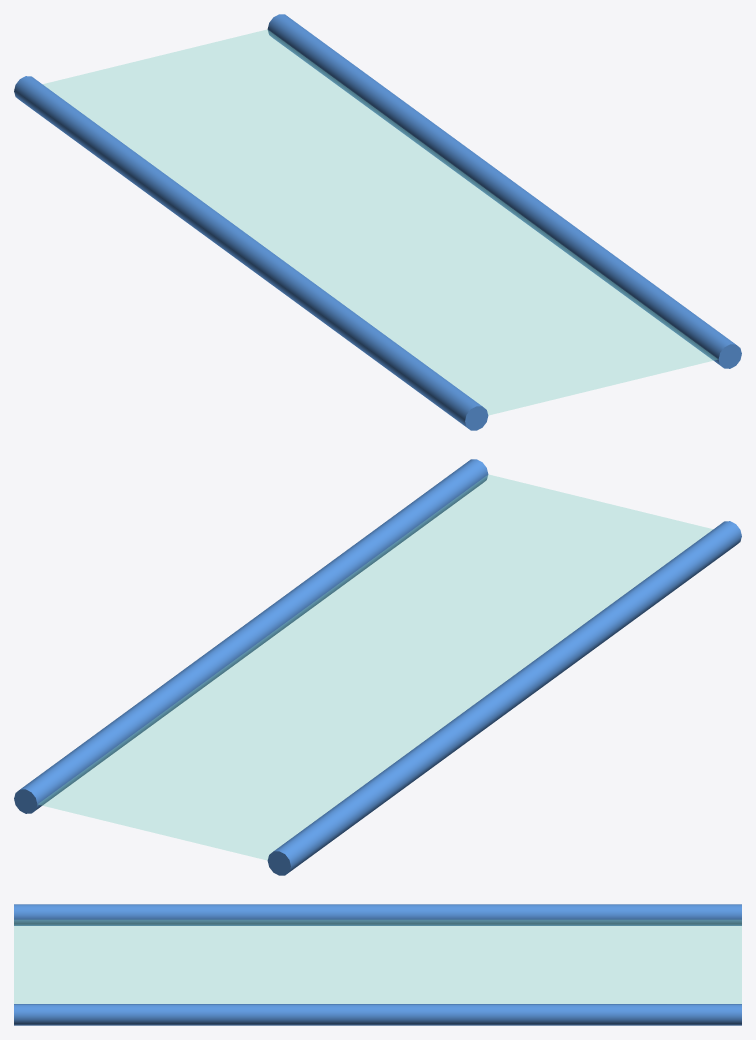
The model's file is arrow_shaft.glb.
3 views of the same model, one above another, from view 1: azimuth 30°, elevation 25°; view 2: azimuth 150°, elevation 25°; view 3: azimuth 270°, elevation 25° (orthographic). The views are drawn at different scales.
Parts seen in each view (by area): view 1: Plane, Plane.001; view 2: Plane, Plane.001; view 3: Plane, Plane.001.
Boxes of the visible parts, bbox=[...] form: Plane: bbox=[43, 29, 717, 415]; Plane.001: bbox=[14, 14, 741, 430]; Plane: bbox=[38, 474, 712, 860]; Plane.001: bbox=[14, 459, 741, 875]; Plane: bbox=[14, 920, 741, 1003]; Plane.001: bbox=[14, 904, 741, 1025].
Bounding box in the file's own units: 0.7093 × 0.06 × 2.
